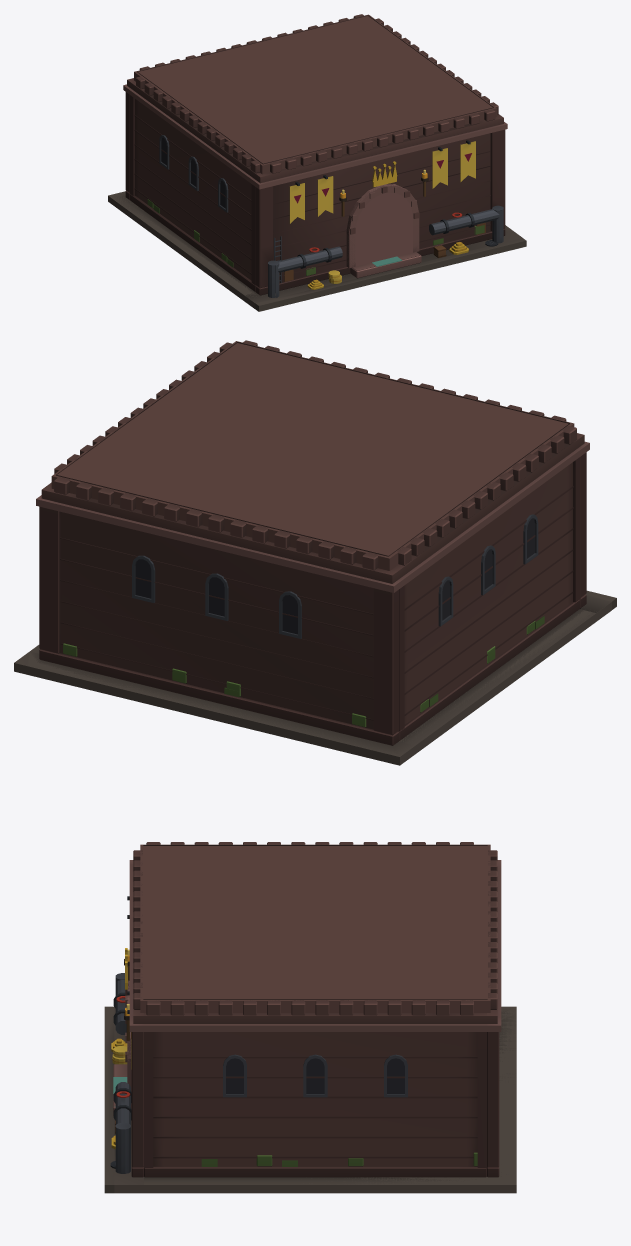
Rendered from RatThroneFloor.fbx.
The picture shows the model from 3 angles, top to bottom: view 1: azimuth 30°, elevation 25°; view 2: azimuth 150°, elevation 25°; view 3: azimuth 270°, elevation 25°; orthographic projection. The views are drawn at different scales.
Visible parts, largest first — view 1: RT_S_All, RT_F_Rings, RT_F_Smooth, RT_F_Quiet, RT_F_Glass; view 2: RT_S_All, RT_F_Rings, RT_F_Smooth, RT_F_Quiet, RT_F_Glass; view 3: RT_S_All, RT_F_Rings, RT_F_Smooth, RT_F_Quiet, RT_F_Glass.
Part boxes in pixels (x1=…): RT_S_All: x1=108, y1=14, x2=520, y2=308; RT_F_Rings: x1=123, y1=15, x2=507, y2=282; RT_F_Smooth: x1=123, y1=14, x2=526, y2=311; RT_F_Quiet: x1=109, y1=92, x2=525, y2=305; RT_F_Glass: x1=161, y1=137, x2=427, y2=266; RT_S_All: x1=14, y1=341, x2=611, y2=765; RT_F_Rings: x1=36, y1=342, x2=589, y2=729; RT_F_Smooth: x1=36, y1=340, x2=616, y2=745; RT_F_Quiet: x1=14, y1=452, x2=616, y2=756; RT_F_Glass: x1=135, y1=518, x2=534, y2=634; RT_S_All: x1=114, y1=844, x2=516, y2=1193; RT_F_Rings: x1=113, y1=845, x2=501, y2=1166; RT_F_Smooth: x1=104, y1=842, x2=501, y2=1193; RT_F_Quiet: x1=104, y1=1006, x2=516, y2=1184; RT_F_Glass: x1=113, y1=949, x2=404, y2=1106.
Bounding box in the file's own units: 60 × 20 × 60.
